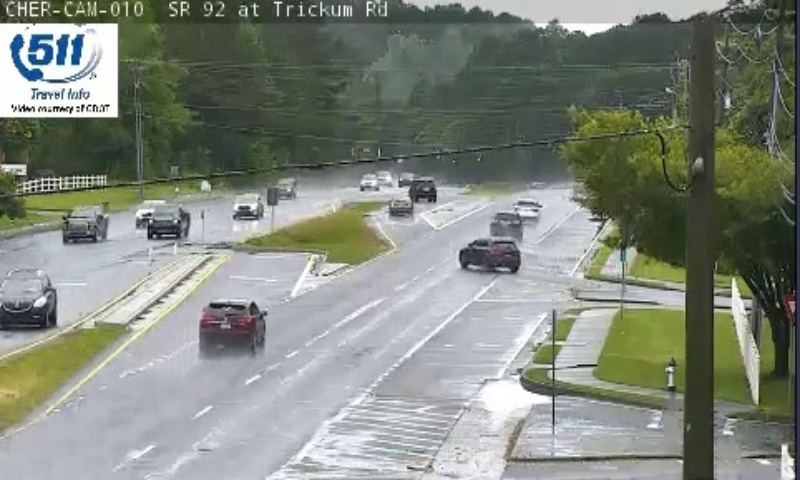car: (199, 300, 265, 349), (490, 211, 524, 237), (513, 198, 542, 223)
